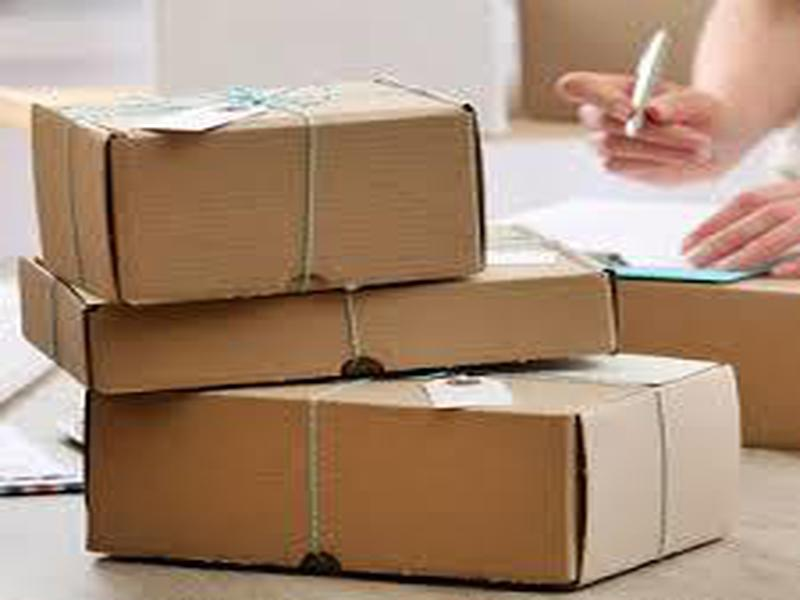package: (71, 349, 751, 582), (22, 63, 494, 311), (15, 245, 629, 403)
